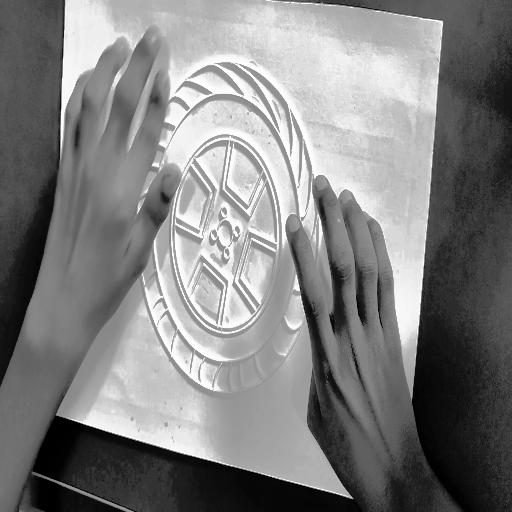bottom_left: (45, 401, 53, 419)
tire: (115, 33, 339, 427)
top_right: (440, 12, 450, 30)
